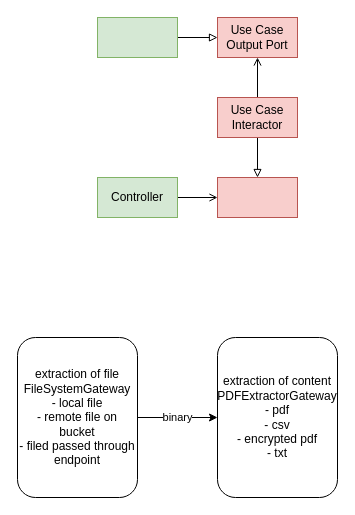
The diagram is 355 pixels wide and 515 high, and some of its shapes have lost their labels. Here are the shapes that lost their labels. From the top down, the centre of each, then its label:
At [137,37]: "Presenter".
At [257,197]: "Use Case Input Port".
